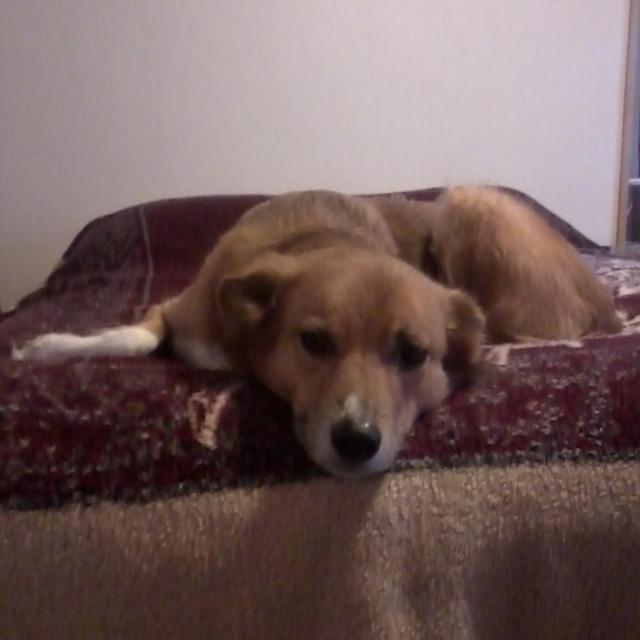Dog: (10, 186, 621, 481)
